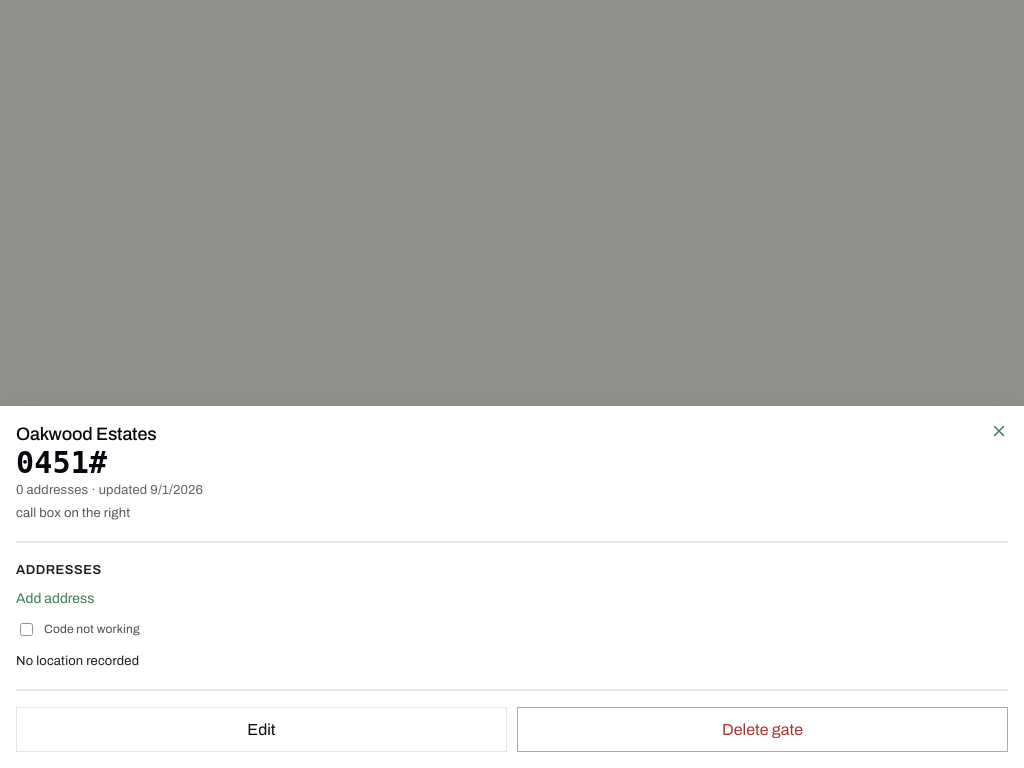
GateDetailSheet › hides Edit while a gate delete is armed
Click the button "Delete gate" at {"x": 762, "y": 729}, box [517,707,1008,752]
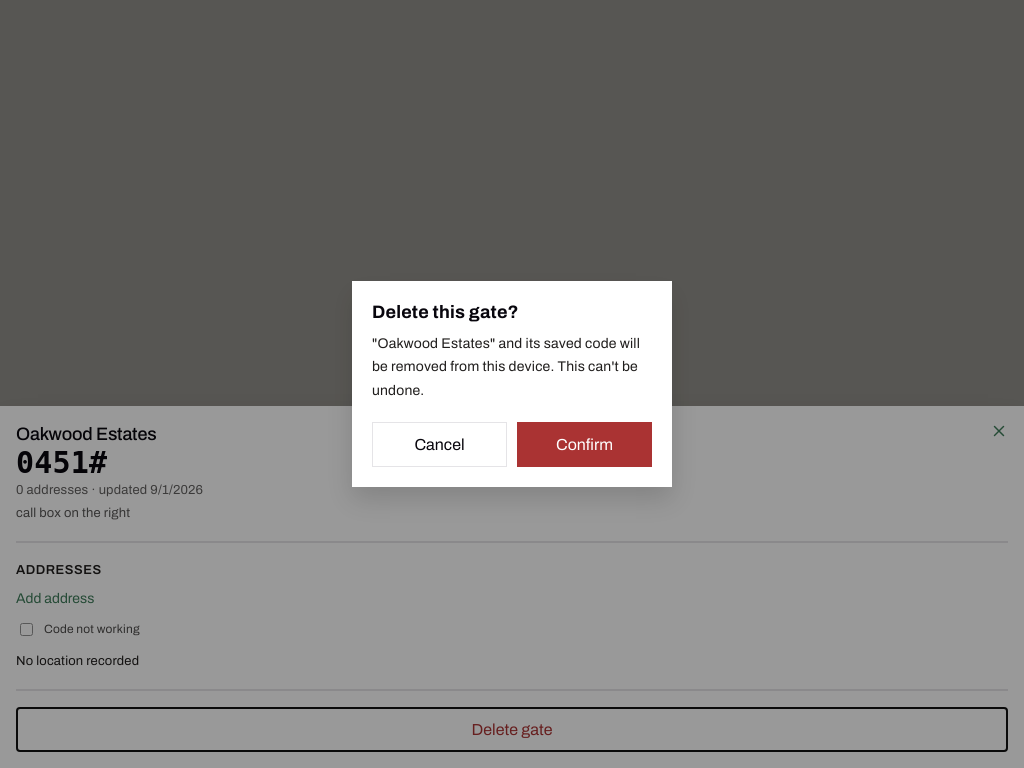
expect the button "Edit" is gone: met
Click the button "Cancel" at {"x": 440, "y": 444}, box [372,422,507,467]
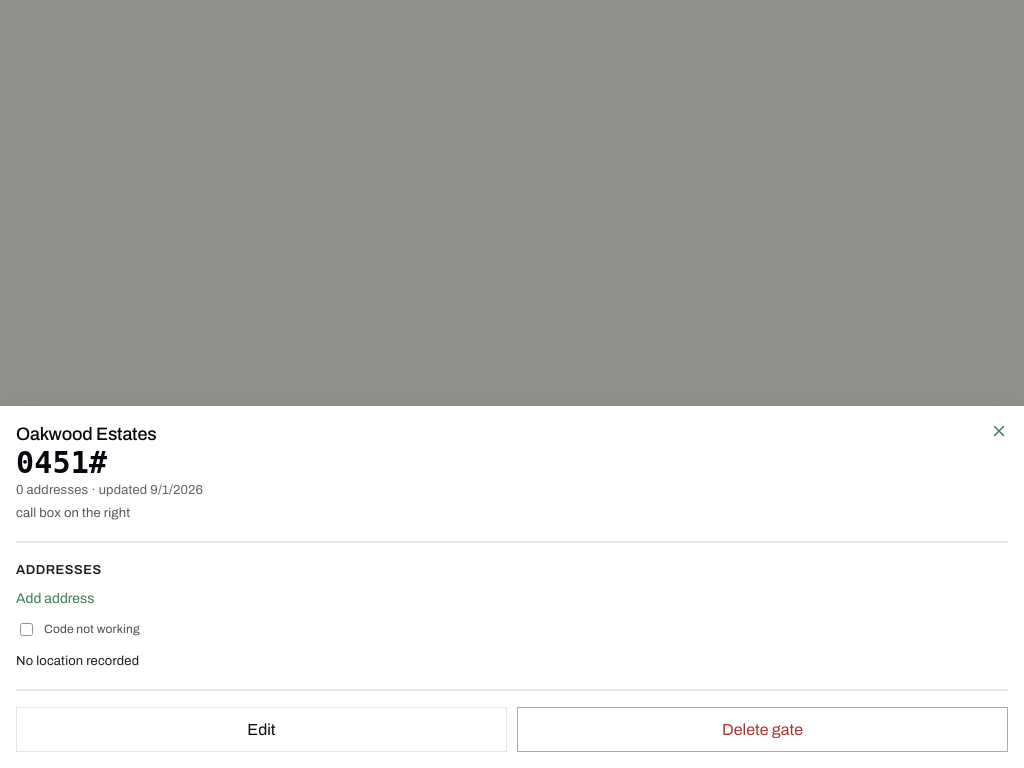
expect the button "Edit" is shown: met, box [16,707,507,752]
